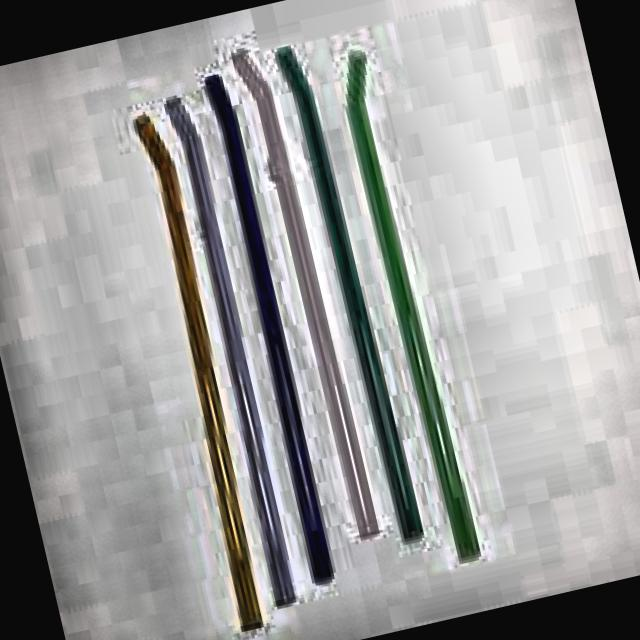plastic straw: (279, 48, 423, 540), (236, 53, 379, 536), (348, 51, 480, 558), (135, 114, 263, 629), (165, 98, 295, 605), (204, 74, 333, 582)
